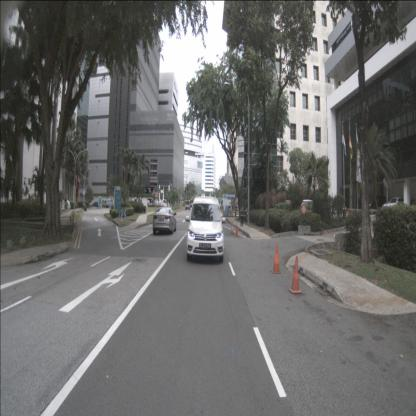cone: (289, 256, 302, 295), (272, 242, 282, 274), (234, 224, 239, 236), (230, 222, 234, 235)
